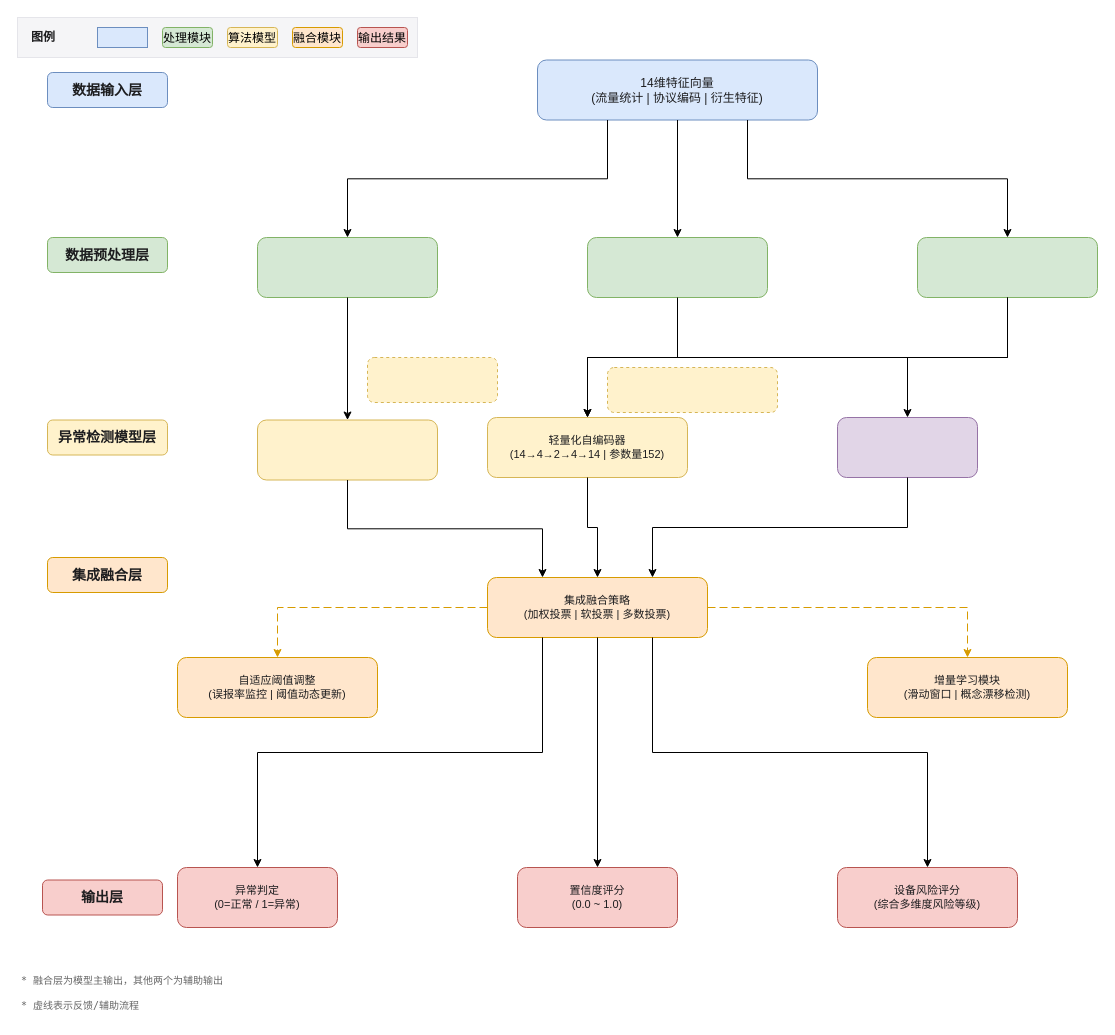
Some shapes in this 1115 by 1035 pixel diagram are drawn without their labels. Each missing label, with the centre of its shape:
KNN / SVM (对比基线): the point at 907,447
孤立森林公式 s(x,n) = 2^(-E[h(x)] / c(n)): the point at 432,379
数据标准化 (Z-Score | MinMax): the point at 677,267
数据输入: the point at 122,37
特征完整性检查 (缺失值 | 异常值过滤): the point at 1007,267
自编码器公式 r(x) = ||x - x'||² > τ → 异常: the point at 692,389
规则前置过滤 (协议白名单 | 端口过滤): the point at 347,267
轻量化孤立森林 (50棵树 | 深度≤8): the point at 347,449
